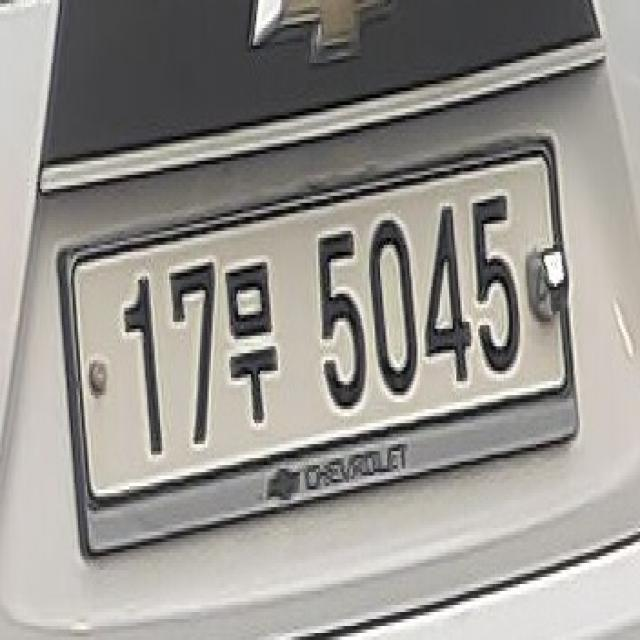0: (367, 206, 422, 402)
1: (120, 273, 167, 462)
4: (420, 189, 473, 395)
5: (309, 220, 369, 413), (469, 185, 522, 392)
7: (167, 252, 220, 465)
license_plate: (52, 119, 584, 573)
mu: (222, 252, 280, 434)
